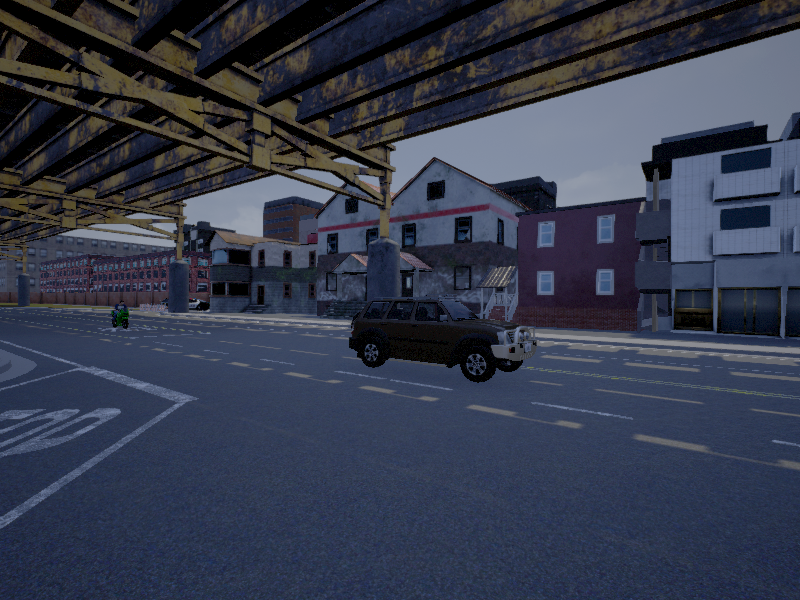benign: (348, 299, 539, 380)
